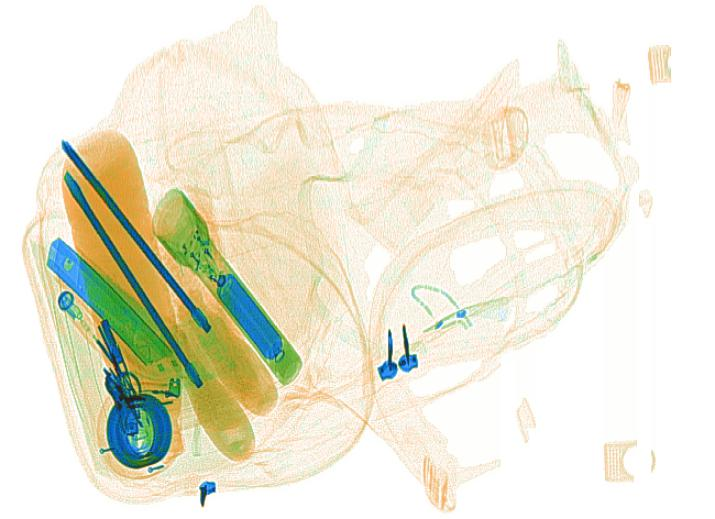battery: (212, 271, 284, 362)
knife: (43, 236, 175, 370)
